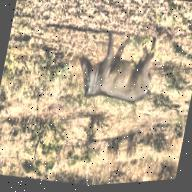boar: (68, 16, 192, 131)
